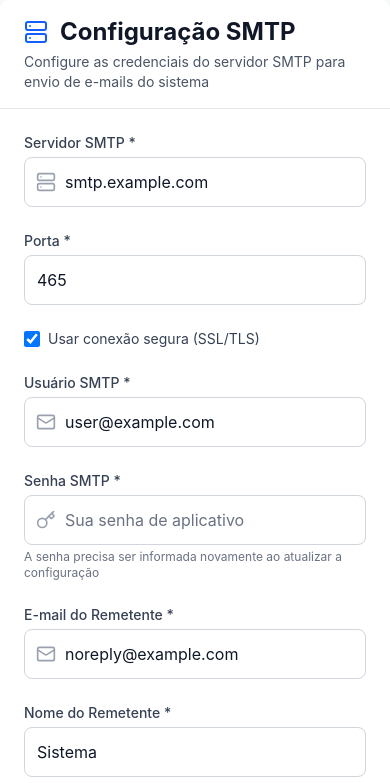
SmtpConfig page › tests the connection
Type "pw" into the password field labelled "Senha SMTP *". click: (195, 520)
box: [24,495,366,545]
(page scrolled)
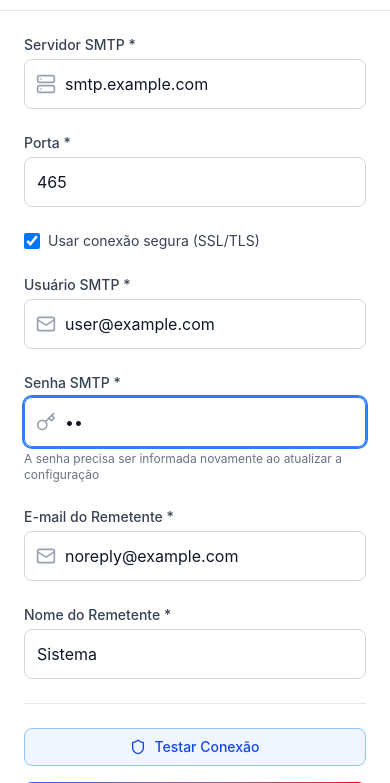
Click the button "Testar Conexão". click: (195, 747)
box: [24,728,366,766]
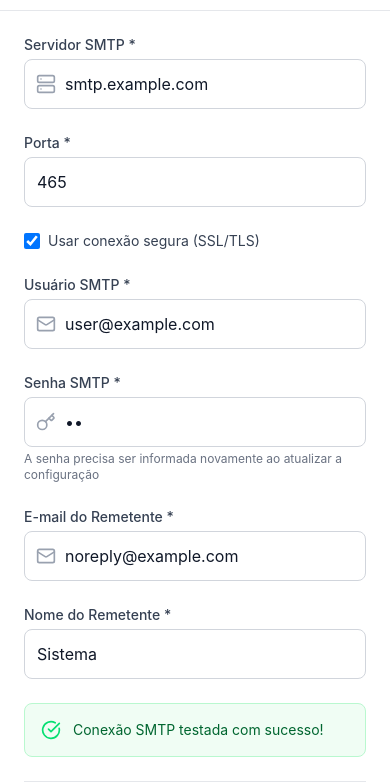
Result: the text "Conexão SMTP testada com sucesso!" is shown at [73,720,324,740]
